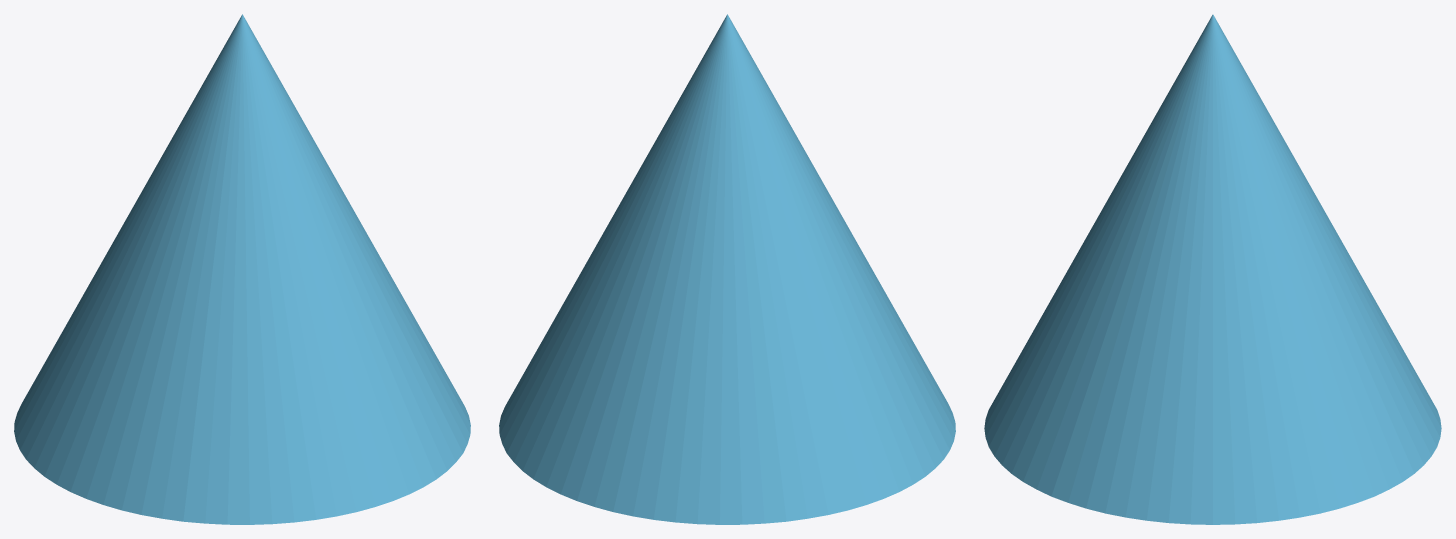
The picture shows the model from 3 angles, left to right: view 1: azimuth 30°, elevation 25°; view 2: azimuth 150°, elevation 25°; view 3: azimuth 270°, elevation 25°; orthographic projection.
Parts seen in each view (by area): view 1: 0-0-0-0; view 2: 0-0-0-0; view 3: 0-0-0-0.
Boxes of the visible parts, bbox=[...] form: 0-0-0-0: bbox=[14, 14, 470, 524]; 0-0-0-0: bbox=[499, 14, 955, 524]; 0-0-0-0: bbox=[984, 14, 1441, 524].
Bounding box in the file's own units: 11.46 × 11.46 × 11.46.
